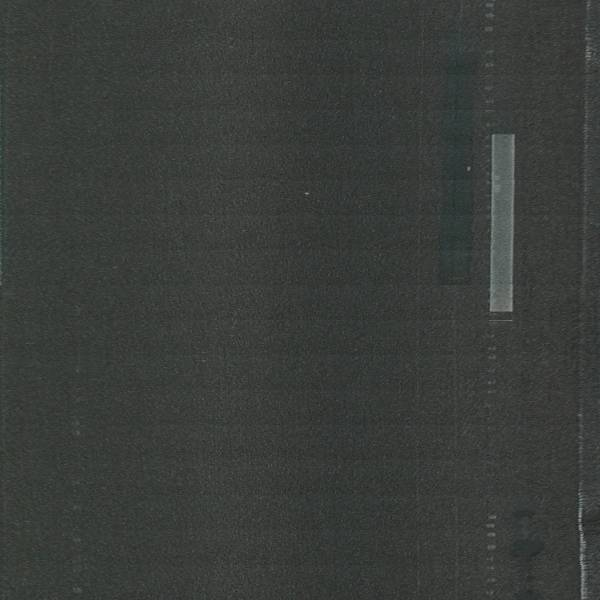road_damage: (503, 501, 557, 600)
